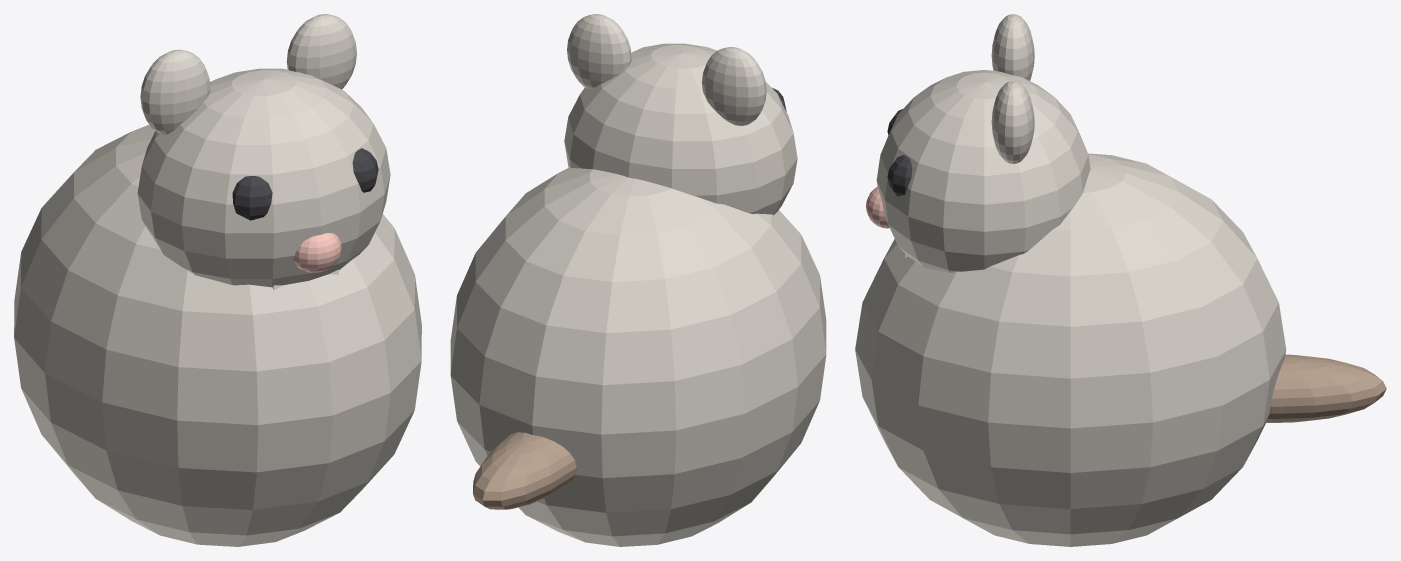
File: mob-biber.glb
3 renders of one model, left to right at view 1: azimuth 30°, elevation 25°; view 2: azimuth 150°, elevation 25°; view 3: azimuth 270°, elevation 25°, orthographic. The views are drawn at different scales.
Visible parts, largest first — view 1: mob-biber; view 2: mob-biber; view 3: mob-biber.
Boxes of the visible parts, <box> form: mob-biber: <box>14,14,421,546</box>; mob-biber: <box>450,14,826,546</box>; mob-biber: <box>855,14,1386,546</box>.
Size of the model in its own units: 0.52 by 0.74 by 0.74.
